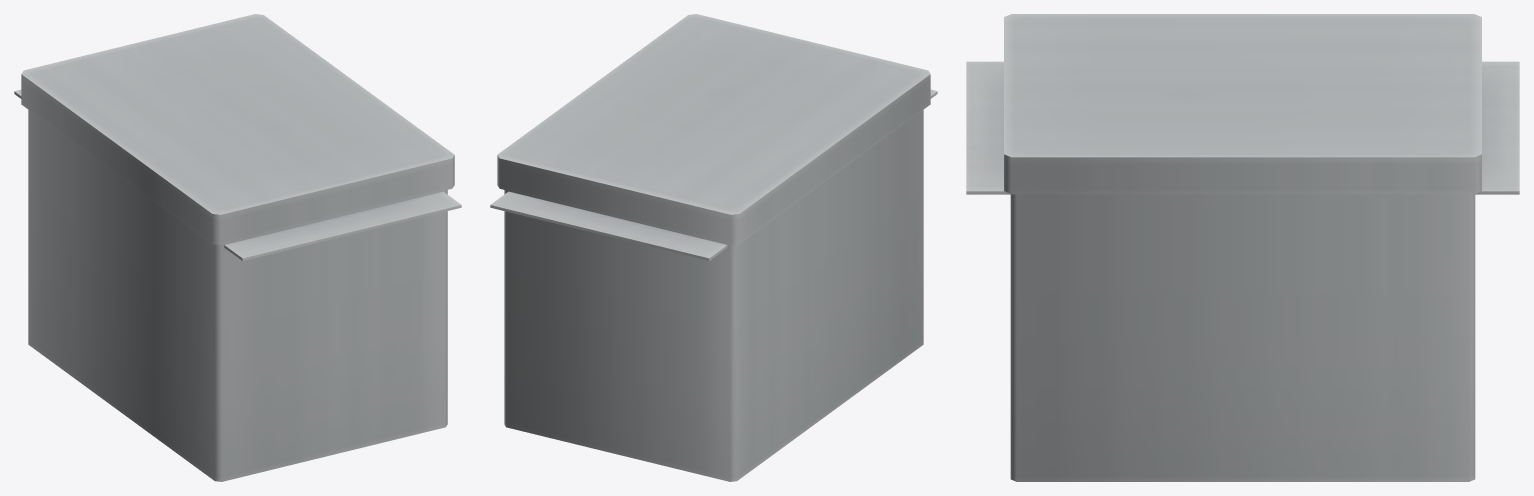
File: jsf_ChocolateHotPot_a02.fbx
The picture shows the model from 3 angles, left to right: view 1: azimuth 30°, elevation 25°; view 2: azimuth 150°, elevation 25°; view 3: azimuth 270°, elevation 25°; orthographic projection. The views are drawn at different scales.
Visible parts, largest first — view 1: Body, Lid; view 2: Body, Lid; view 3: Body, Lid.
Part boxes in pixels (x1,y1,x2,y2): Body: (14,89,461,481); Lid: (21,14,454,245); Body: (490,89,937,481); Lid: (497,14,930,245); Body: (966,61,1519,481); Lid: (1004,14,1481,194).
Bounding box in the file's own units: 16.72 × 17.8 × 27.28.
